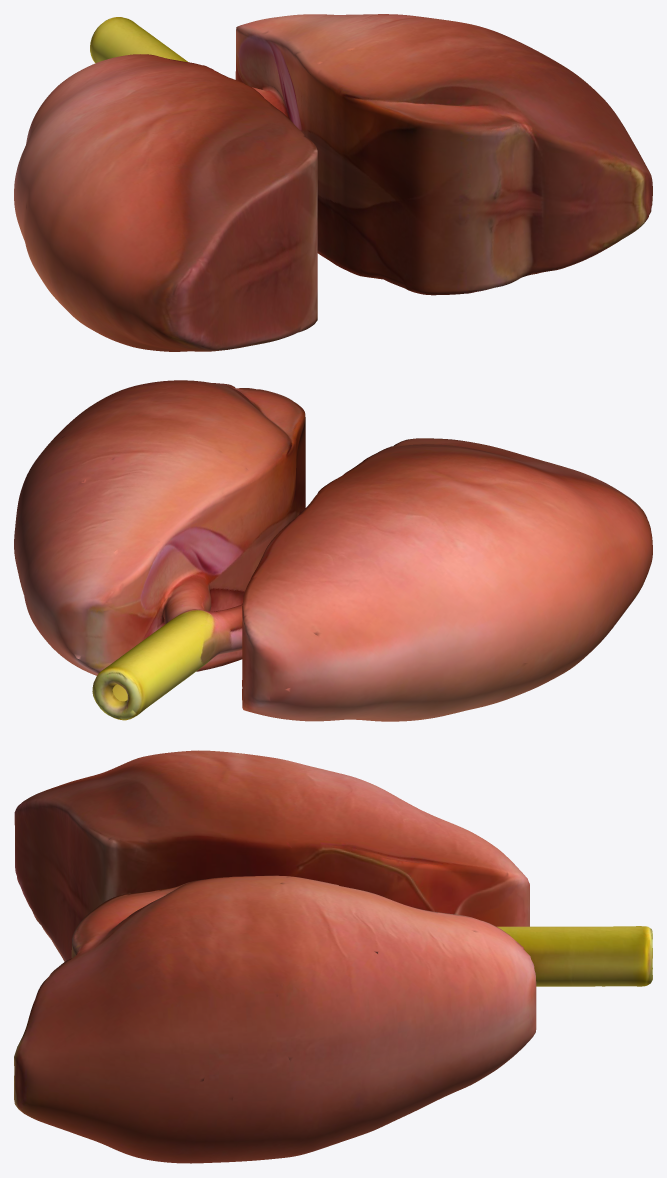
Rendered from Lungs.fbx.
3 views of the same model, one above another, from view 1: azimuth 30°, elevation 25°; view 2: azimuth 150°, elevation 25°; view 3: azimuth 270°, elevation 25° (orthographic). The views are drawn at different scales.
Parts seen in each view (by area): view 1: Mesh_0.001; view 2: Mesh_0.001; view 3: Mesh_0.001.
Part boxes in pixels (x1=…): Mesh_0.001: x1=14, y1=14, x2=652, y2=351; Mesh_0.001: x1=14, y1=380, x2=652, y2=721; Mesh_0.001: x1=14, y1=750, x2=652, y2=1163.
Size of the model in its own units: 200 by 74.61 by 188.
Materials: 1 (1 with a texture image).
